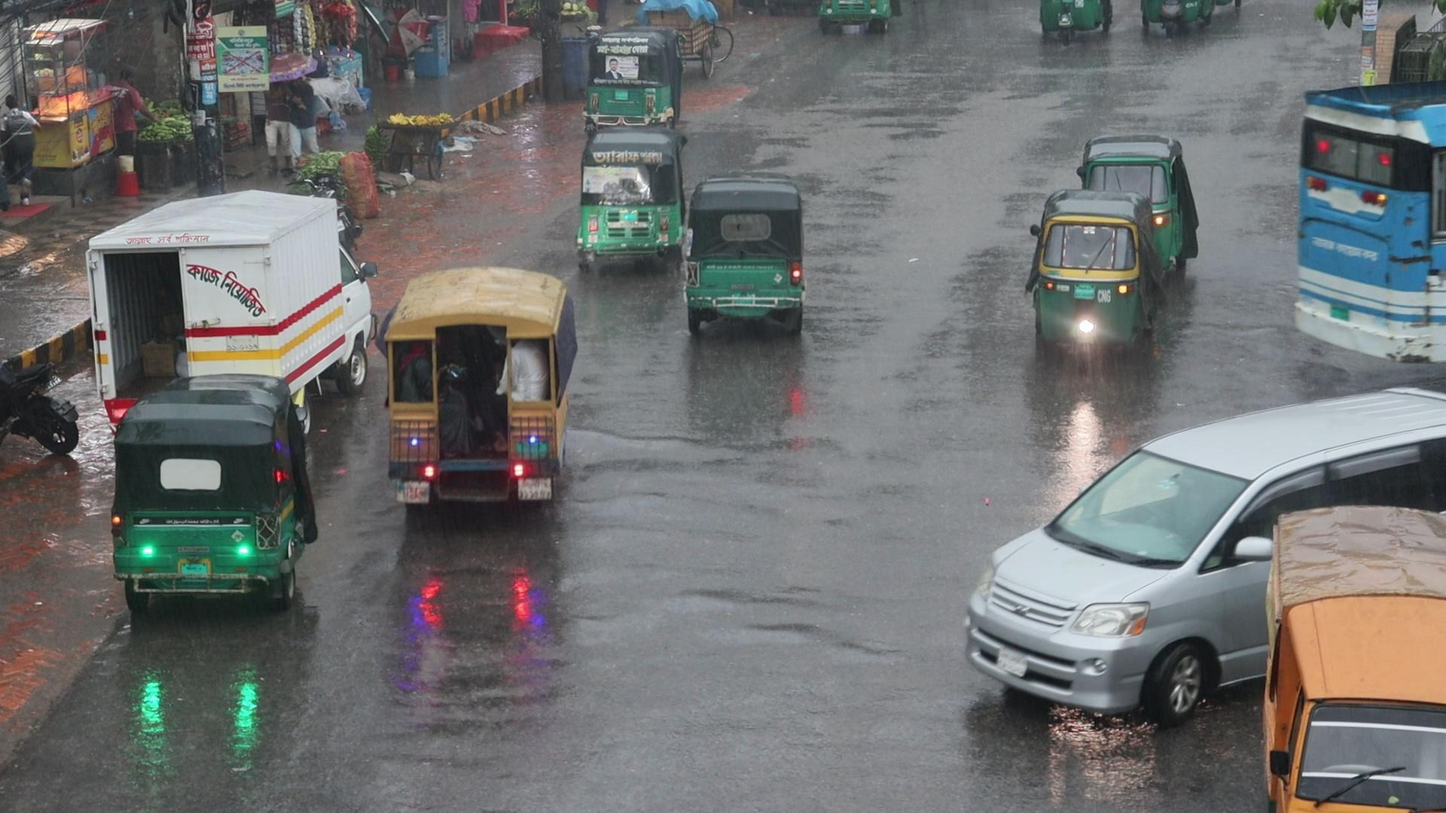Bus: (1283, 79, 1446, 397)
Car: (955, 375, 1441, 722)
Truck: (1256, 473, 1446, 813), (378, 254, 590, 534)
